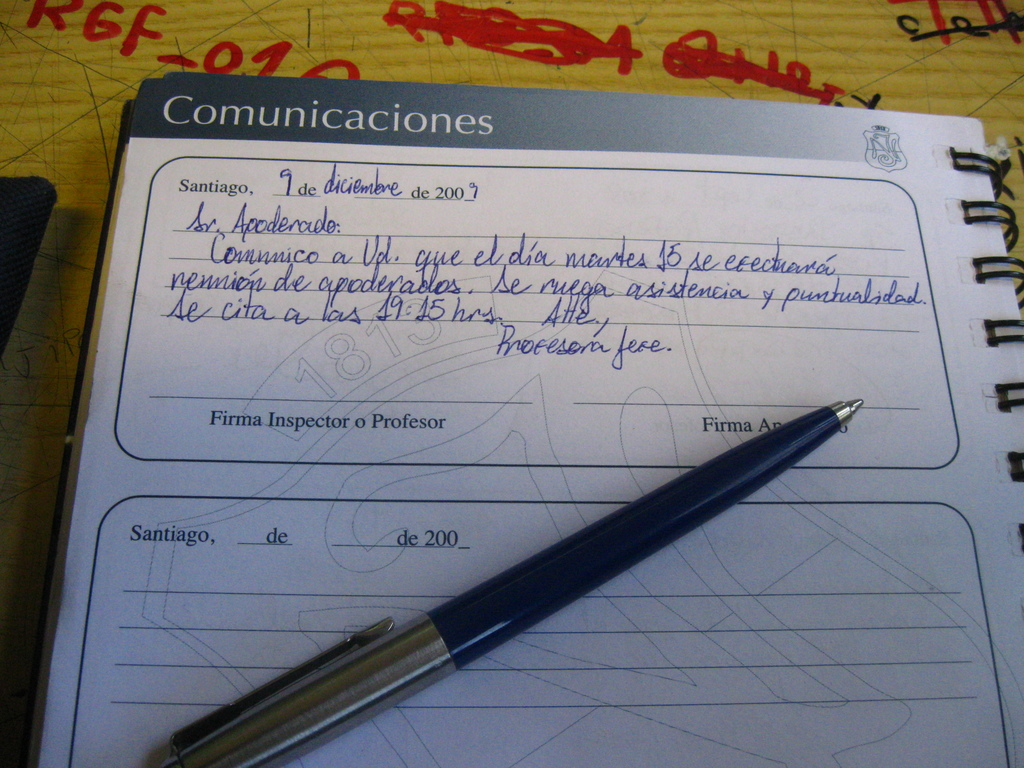Pen: (149, 397, 865, 767)
